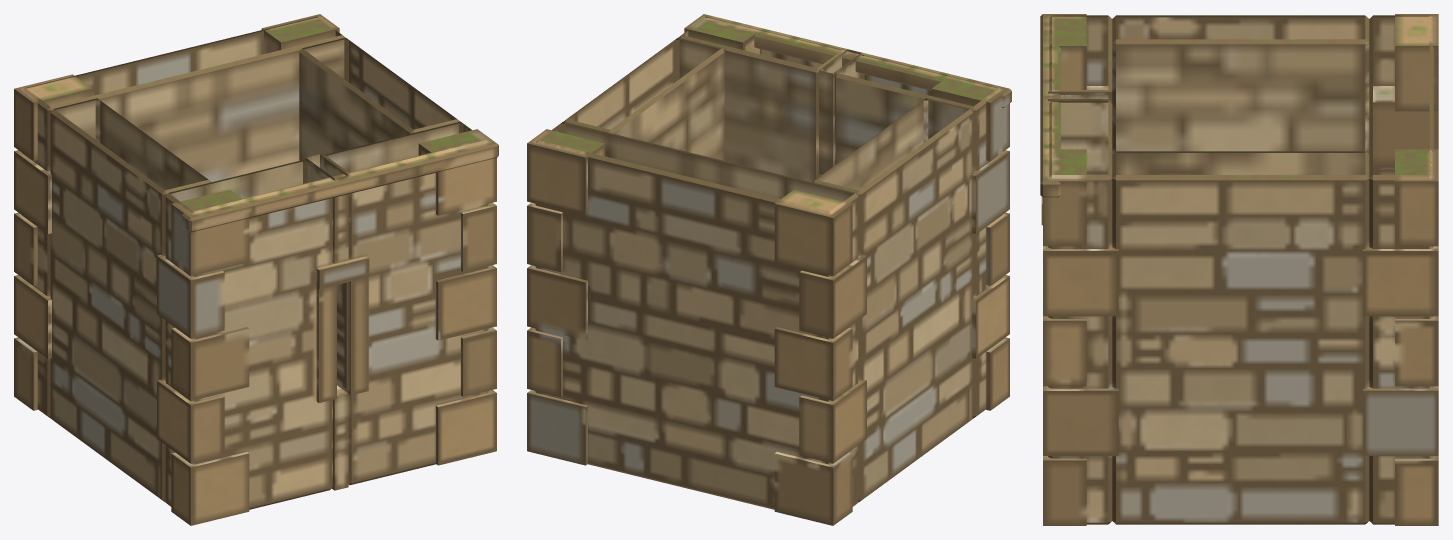
File: Kit_Gate_Tower.fbx
The picture shows the model from 3 angles, left to right: view 1: azimuth 30°, elevation 25°; view 2: azimuth 150°, elevation 25°; view 3: azimuth 270°, elevation 25°; orthographic projection. The views are drawn at different scales.
Parts seen in each view (by area): view 1: Kit_Gate_Tower_LOD0; view 2: Kit_Gate_Tower_LOD0; view 3: Kit_Gate_Tower_LOD0.
Boxes of the visible parts, box(x1,y1,x2,y2) form: Kit_Gate_Tower_LOD0: box(14, 14, 498, 525); Kit_Gate_Tower_LOD0: box(527, 14, 1011, 525); Kit_Gate_Tower_LOD0: box(1040, 14, 1438, 525).
Size of what is drawn, in the model's own units: 3.12 by 3 by 3.1.
1 material, 1 textured.
